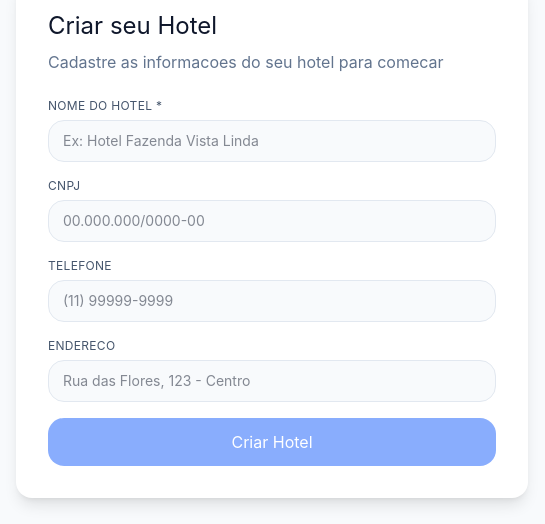
Test: CreateEmpresa (expanded) › submit button enabled when nome has text
This screenshot has width=545, height=524.
Step 1. Type "Hotel Test" into the field with placeholder "Ex: Hotel Fazenda Vista Linda" → (272, 141), box left=48, top=120, right=496, bottom=162
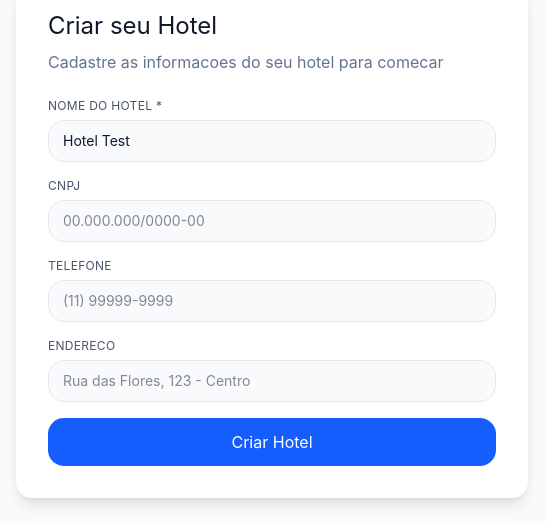
Check: the button "Criar Hotel" is enabled, box left=48, top=418, right=496, bottom=466
